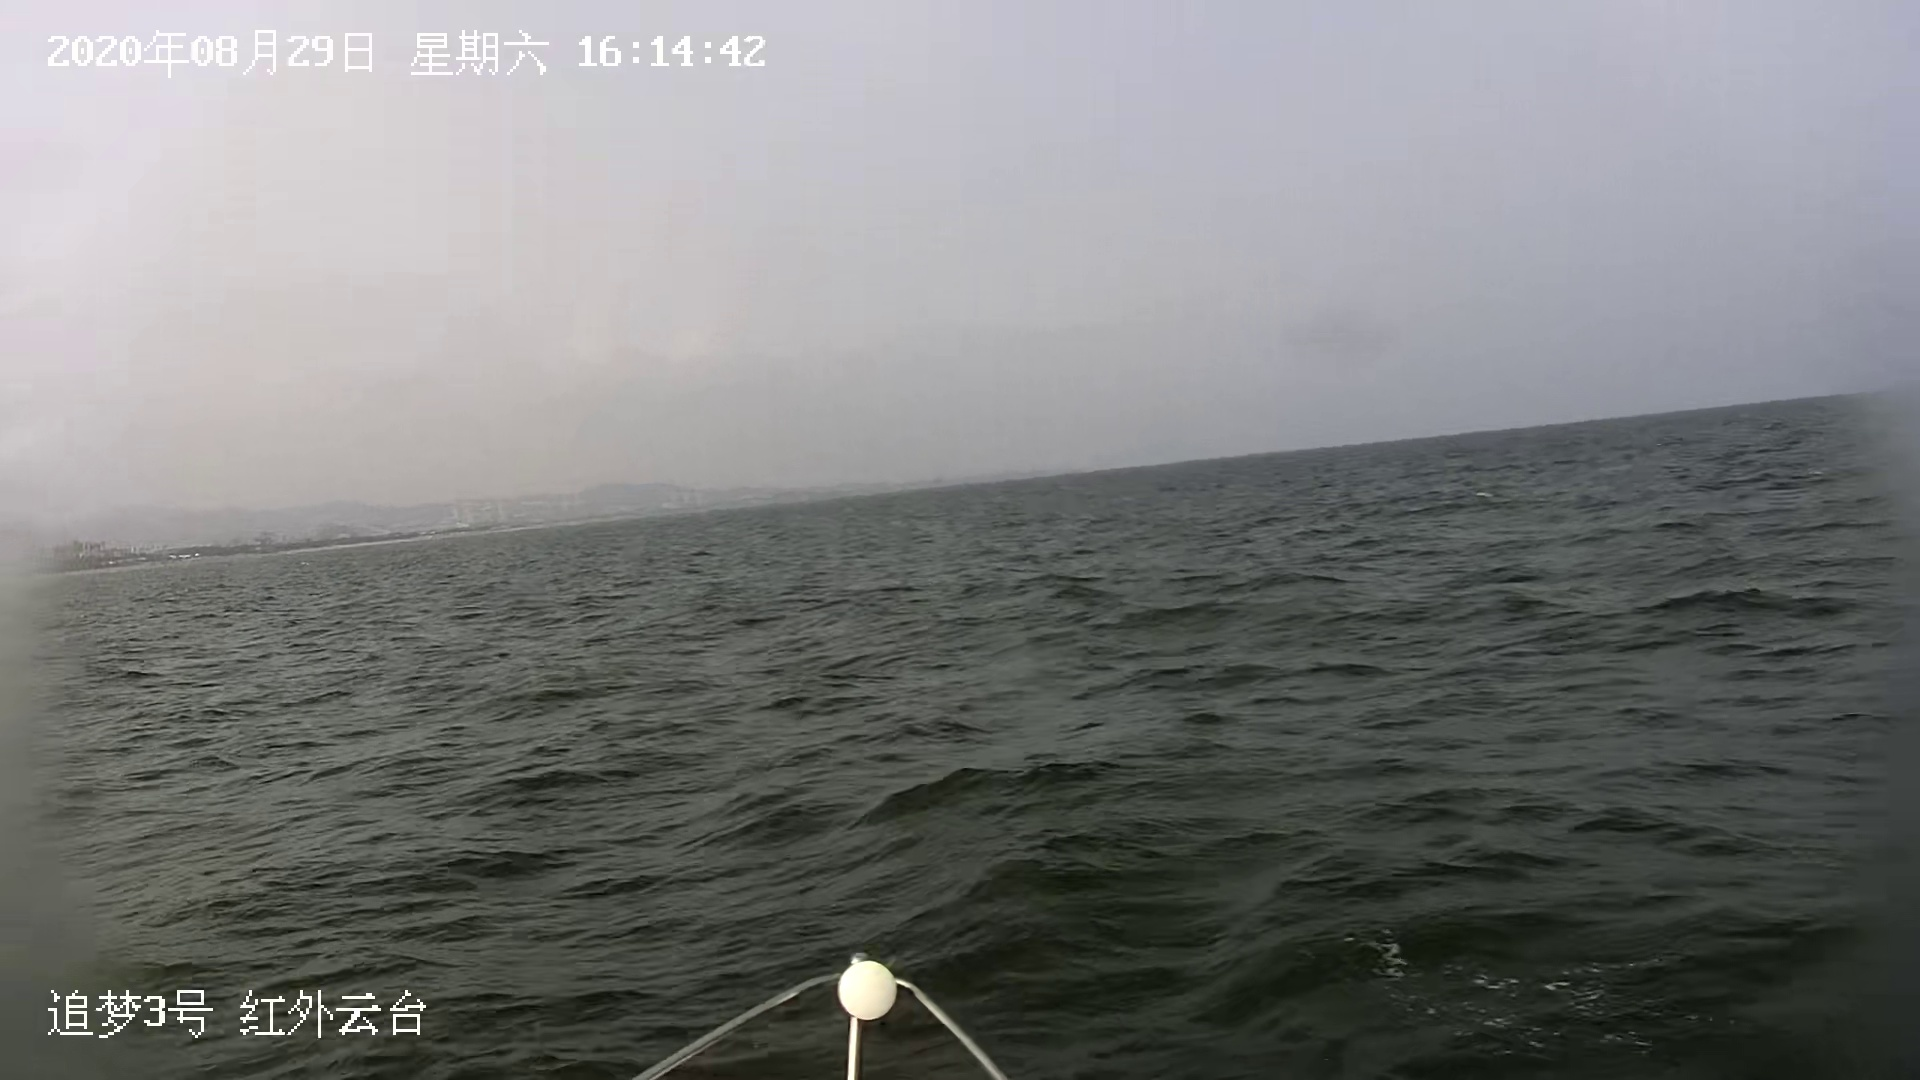coast: (0, 472, 1056, 571)
this: (622, 952, 1019, 1079)
